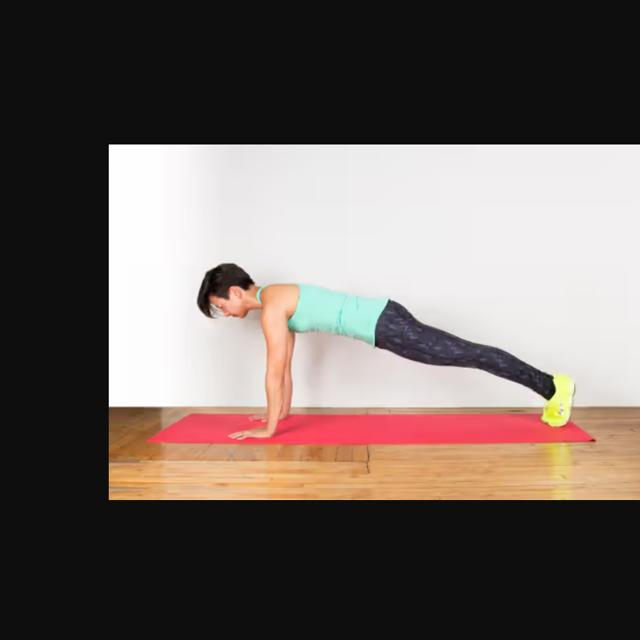Plank_Pose: (191, 262, 579, 445)
